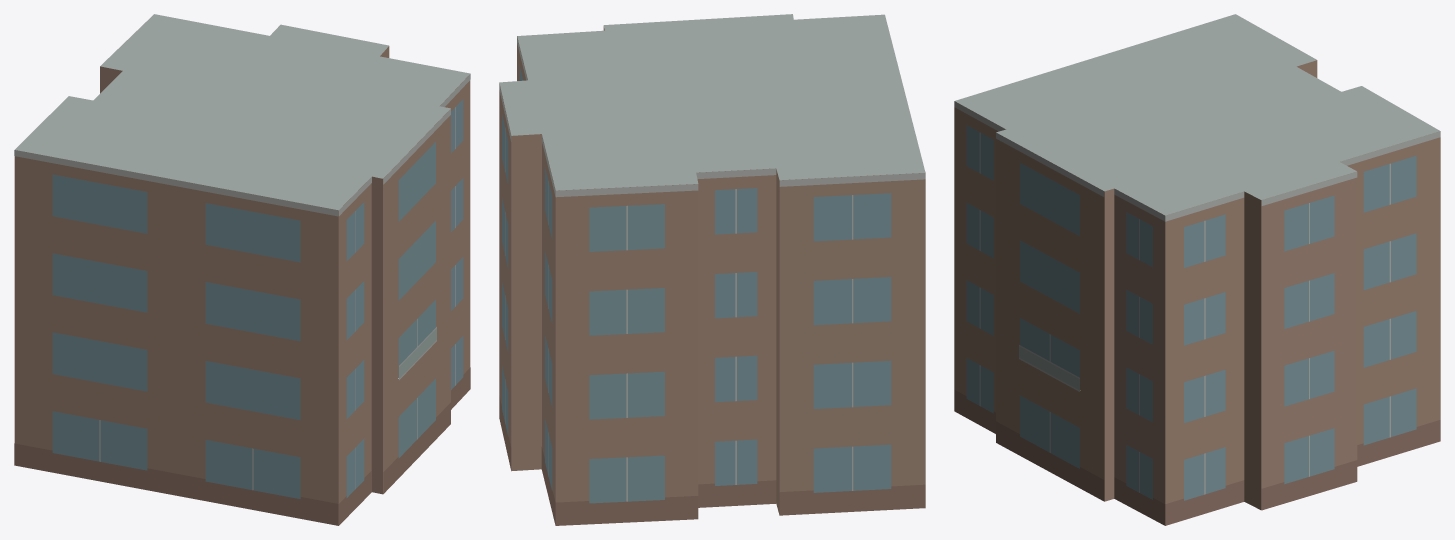
The model's file is survey-upis-33025332.glb.
3 views of the same model, side by side, from view 1: azimuth 30°, elevation 25°; view 2: azimuth 150°, elevation 25°; view 3: azimuth 270°, elevation 25° (orthographic). The views are drawn at different scales.
Parts seen in each view (by area): view 1: survey-upis-33025332.tmp; view 2: survey-upis-33025332.tmp; view 3: survey-upis-33025332.tmp.
Boxes of the visible parts, box(x1,y1,x2,y2) form: survey-upis-33025332.tmp: box(14, 14, 470, 525); survey-upis-33025332.tmp: box(499, 14, 925, 525); survey-upis-33025332.tmp: box(954, 14, 1440, 525).
Bounding box in the file's own units: 17.22 × 12.35 × 17.54.
